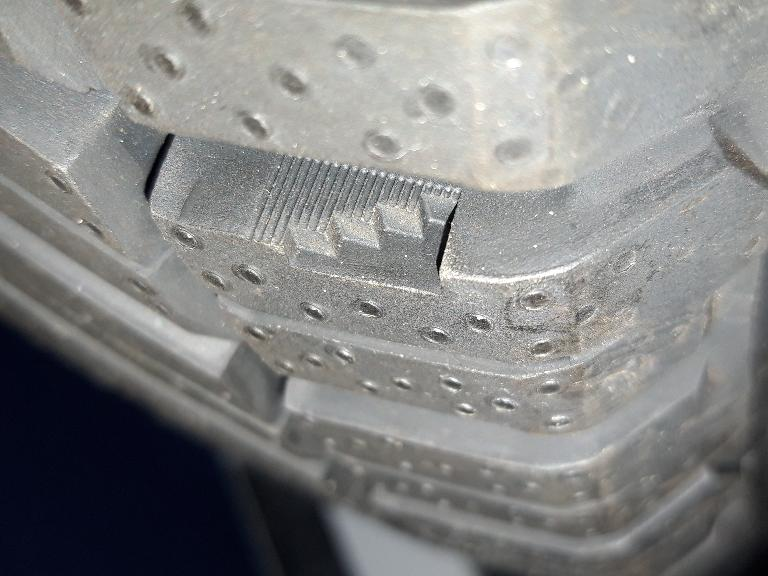temoin:100: (240, 148, 470, 307)
